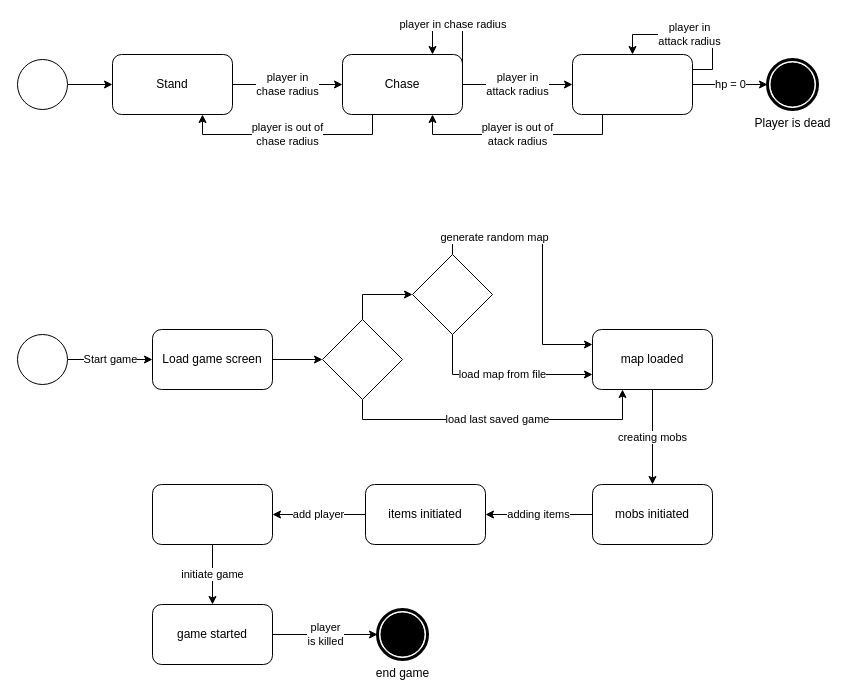
The diagram is 848 pixels wide and 698 high, and some of its shapes have lost their labels. Here are the shapes that lost their labels. From the top down, the centre of each, then its label:
At point (632, 84): "Attack".
At point (452, 294): "map from file?".
At point (362, 359): "load new game?".
At point (212, 514): "player created".
